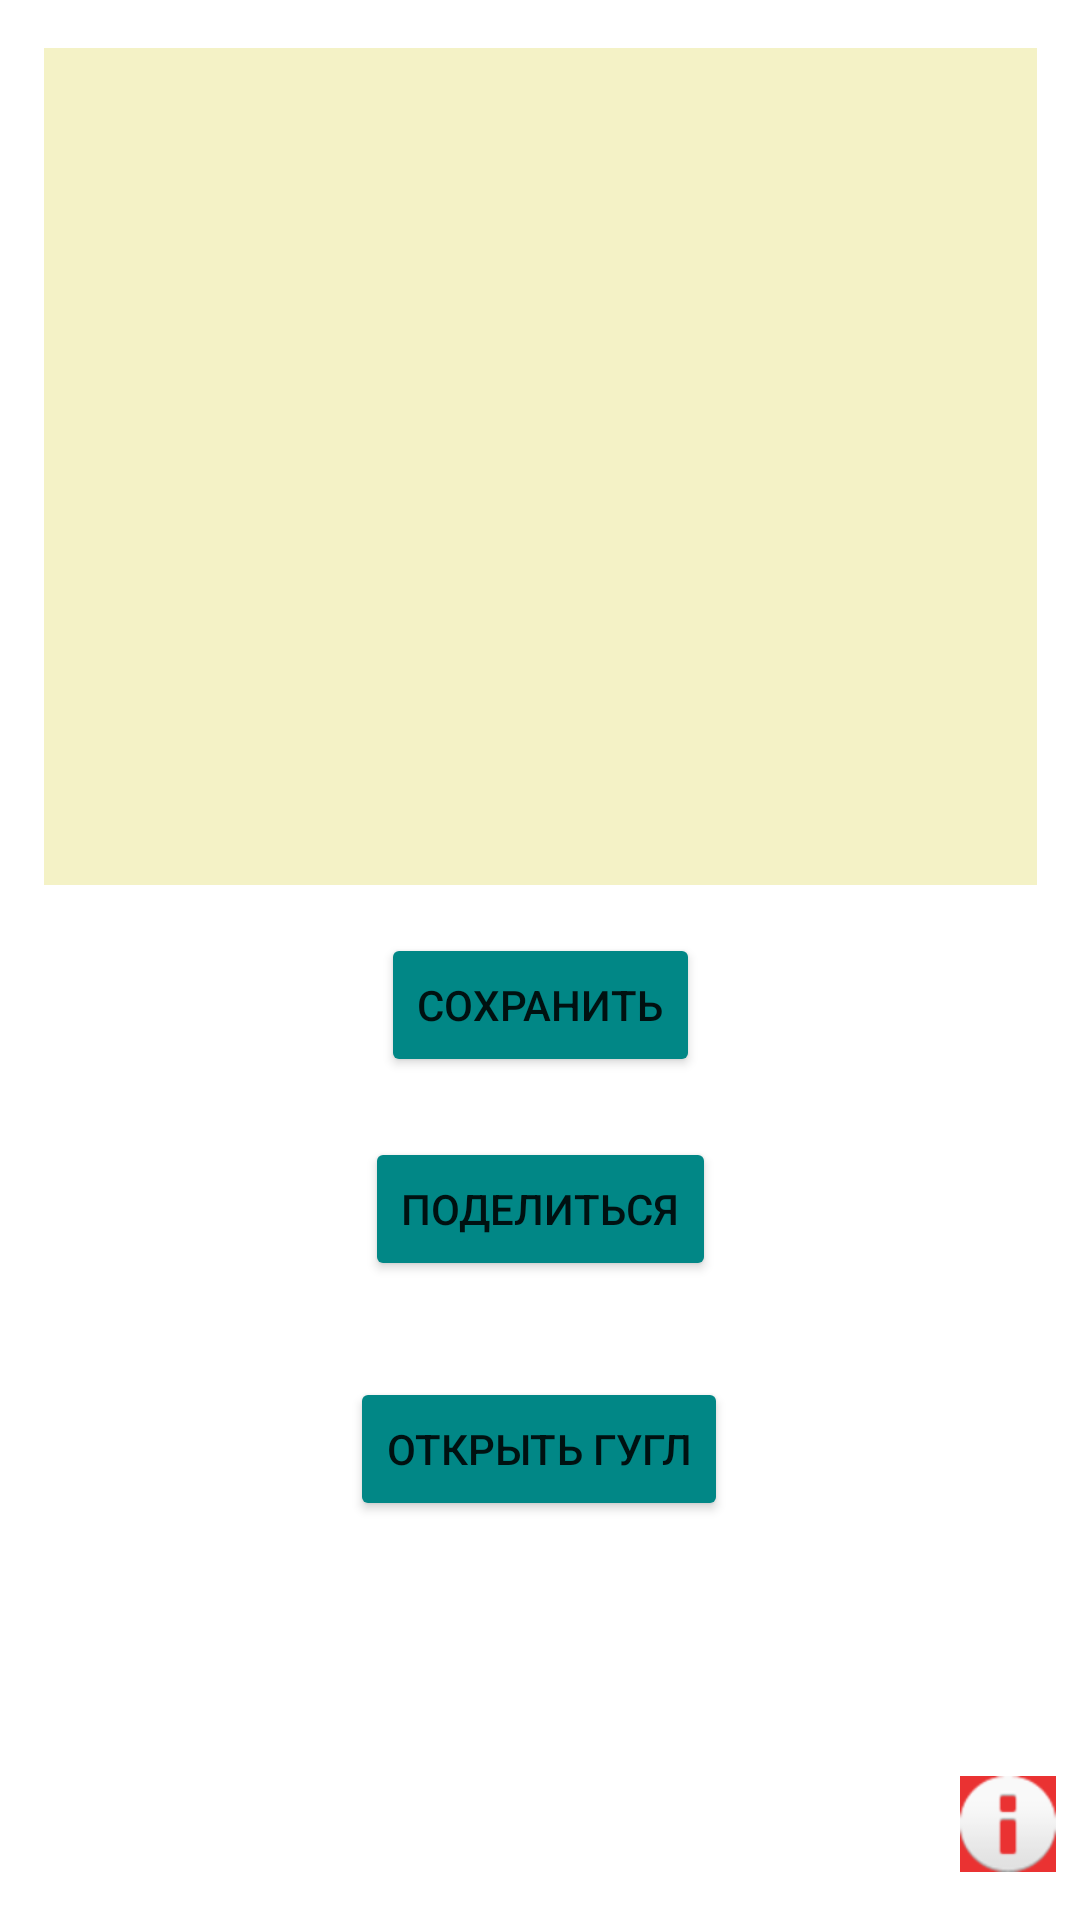

Named icons in this screenshot (1080px x 1920px) and their bounding boxes, (x1, y1, x2, y2):
info: (960, 1776, 1056, 1872)
